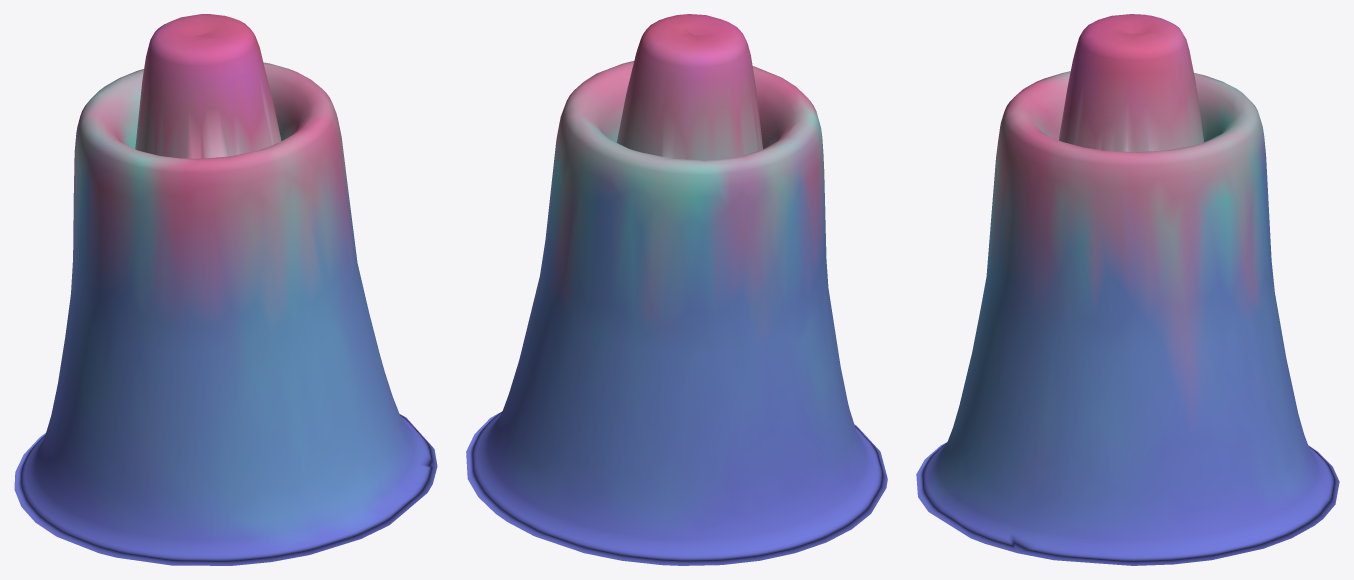
The picture shows the model from 3 angles, left to right: view 1: azimuth 30°, elevation 25°; view 2: azimuth 150°, elevation 25°; view 3: azimuth 270°, elevation 25°; orthographic projection.
Parts seen in each view (by area): view 1: LOD 2_18409866040645993065_000c7580005880844991c3b836c91307; view 2: LOD 2_18409866040645993065_000c7580005880844991c3b836c91307; view 3: LOD 2_18409866040645993065_000c7580005880844991c3b836c91307.
Part boxes in pixels (x1,y1,x2,y2): LOD 2_18409866040645993065_000c7580005880844991c3b836c91307: [14, 14, 437, 565]; LOD 2_18409866040645993065_000c7580005880844991c3b836c91307: [466, 14, 887, 565]; LOD 2_18409866040645993065_000c7580005880844991c3b836c91307: [916, 14, 1339, 565].
Bounding box in the file's own units: 1.26 × 1.5 × 1.25.
